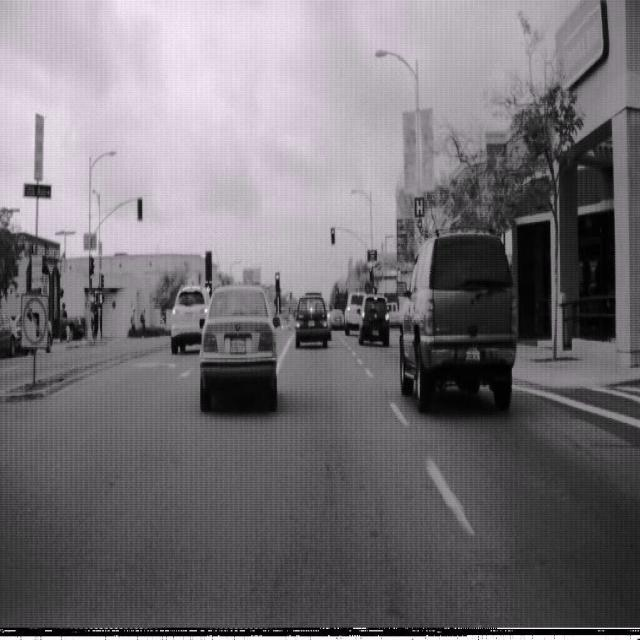noLeftTurn: (20, 293, 48, 348)
